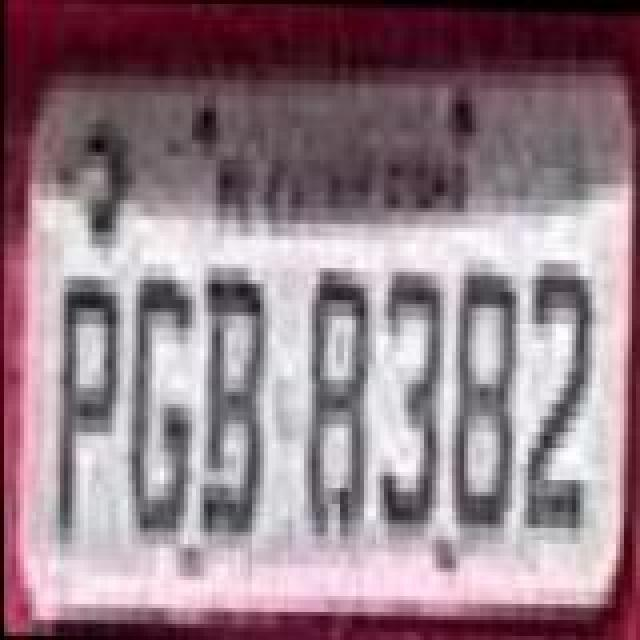2: (526, 262, 594, 542)
3: (378, 264, 446, 532)
8: (302, 272, 370, 552), (450, 252, 518, 532)
B: (198, 266, 266, 534)
G: (126, 274, 194, 542)
P: (54, 274, 122, 554)
